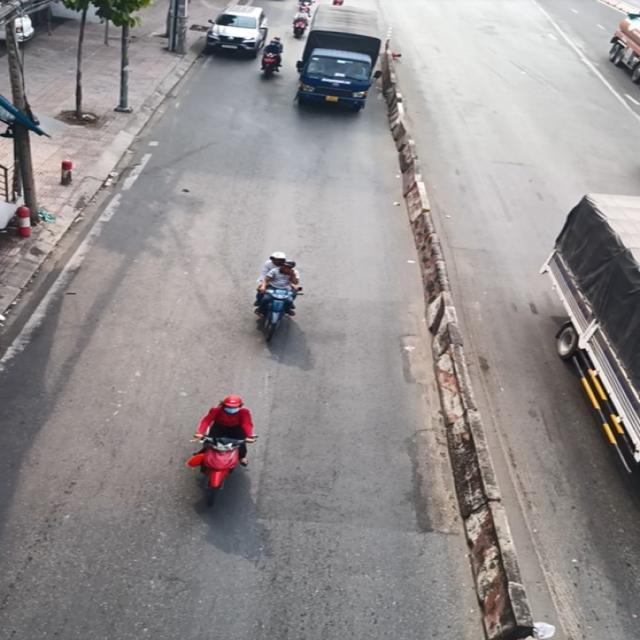car: (205, 0, 272, 56)
motorcycle: (194, 432, 244, 508), (266, 285, 298, 339), (257, 47, 284, 85)
person: (216, 388, 250, 466), (264, 246, 289, 285), (278, 258, 298, 299), (268, 27, 278, 55)
truck: (538, 170, 640, 454), (307, 4, 387, 116), (607, 13, 640, 85)
